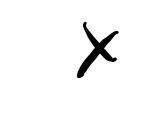mult: (79, 21, 119, 78)
